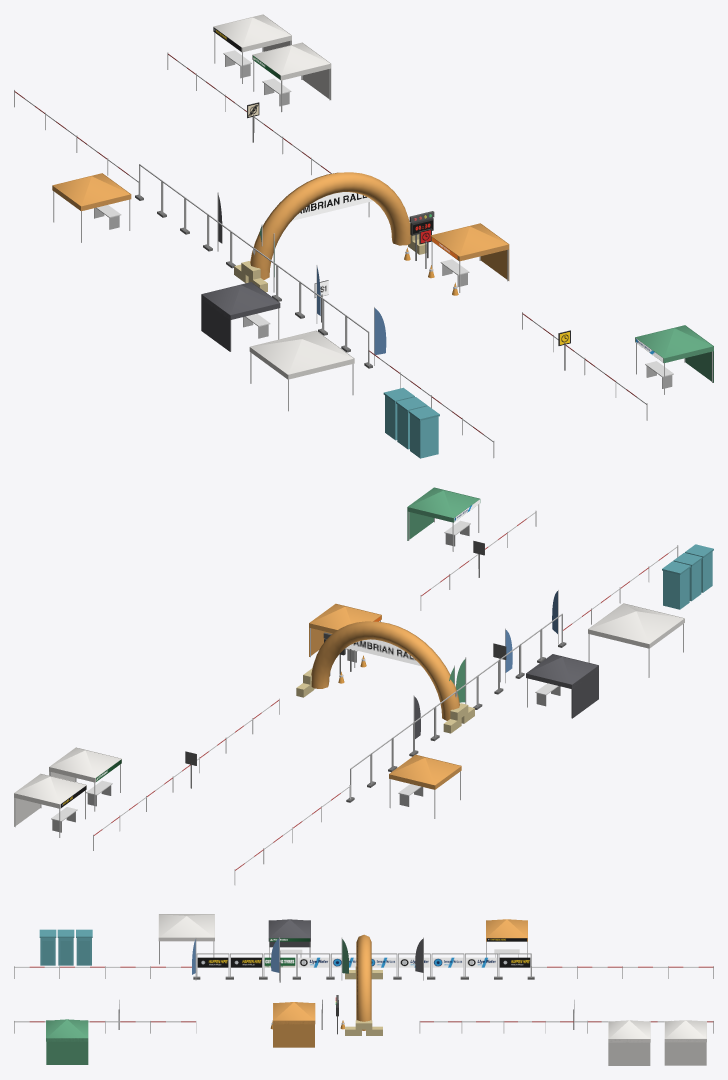
Rendered from start_21.glb.
3 renders of one model, top to bottom at view 1: azimuth 30°, elevation 25°; view 2: azimuth 150°, elevation 25°; view 3: azimuth 270°, elevation 25°, orthographic. The views are drawn at different scales.
Size of the model in its own units: 21.17 by 5.15 by 50.05.
Materials: 55 (23 with a texture image).
